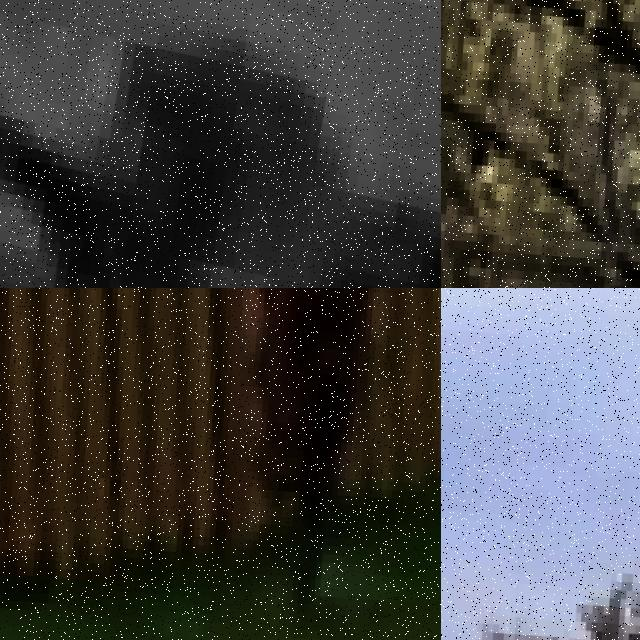drone: (0, 0, 441, 288)
